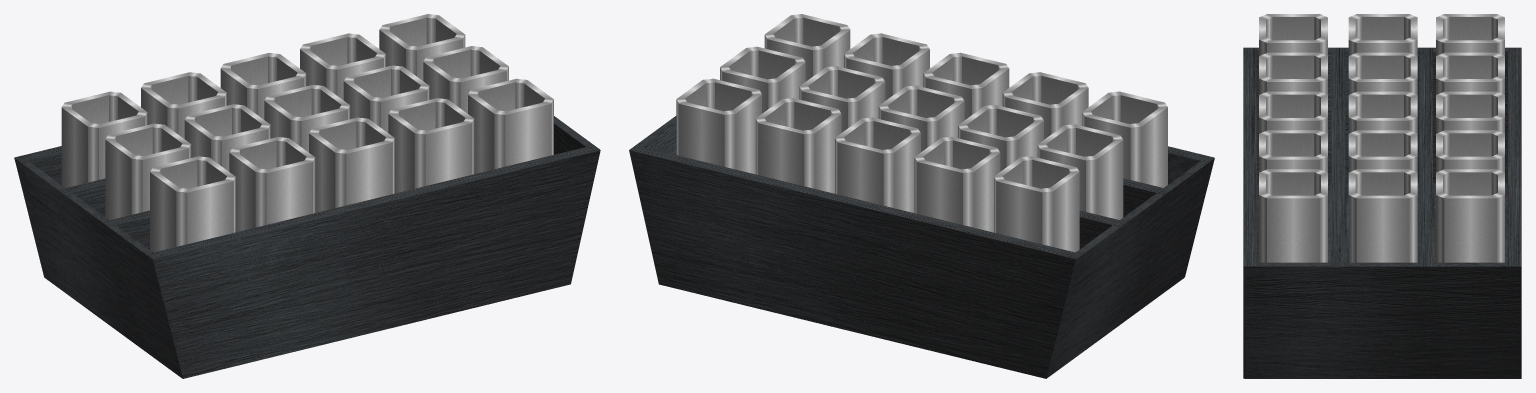
The model's file is CandleHolderRack.fbx.
3 renders of one model, left to right at view 1: azimuth 30°, elevation 25°; view 2: azimuth 150°, elevation 25°; view 3: azimuth 270°, elevation 25°, orthographic.
Parts seen in each view (by area): view 1: back wall, right panel, Cube.013, Cube.004, Cube.010, Cube.001, Cube.007, Cube.012, Cube.014, Cube.005, Cube.011, Cube (+9 smaller); view 2: front wall, right panel, Cube.014, Cube.009, Cube.003, Cube.002, Cube.008, Cube.013, Cube.012, Cube.007, Cube.001, Cube.010 (+9 smaller); view 3: left panel, Cube.006, Cube.008, Cube.007, back wall, mid wall 2, front wall, mid wall, Cube, Cube.005, Cube.011, Cube.003 (+10 smaller).
Part boxes in pixels (bbox=[...]): back wall: bbox=[147, 145, 600, 378]; right panel: bbox=[14, 158, 182, 378]; Cube.013: bbox=[150, 156, 235, 252]; Cube.004: bbox=[388, 98, 474, 193]; Cube.010: bbox=[229, 137, 315, 232]; Cube.001: bbox=[309, 117, 394, 212]; Cube.007: bbox=[468, 78, 553, 173]; Cube.012: bbox=[105, 123, 191, 220]; Cube.014: bbox=[61, 91, 147, 187]; Cube.005: bbox=[343, 65, 429, 132]; Cube.011: bbox=[184, 104, 270, 171]; Cube: bbox=[264, 85, 350, 152]; front wall: bbox=[629, 145, 1082, 378]; right panel: bbox=[1046, 158, 1214, 377]; Cube.014: bbox=[994, 156, 1079, 252]; Cube.009: bbox=[914, 136, 1000, 232]; Cube.003: bbox=[755, 98, 841, 193]; Cube.002: bbox=[835, 117, 920, 212]; Cube.008: bbox=[676, 78, 761, 174]; Cube.013: bbox=[1082, 91, 1167, 187]; Cube.012: bbox=[1037, 124, 1123, 219]; Cube.007: bbox=[764, 14, 850, 81]; Cube.001: bbox=[923, 52, 1009, 119]; Cube.010: bbox=[1002, 72, 1088, 139]; left panel: bbox=[1245, 262, 1520, 378]; Cube.006: bbox=[1348, 169, 1417, 262]; Cube.008: bbox=[1436, 169, 1504, 262]; Cube.007: bbox=[1259, 169, 1327, 262]; back wall: bbox=[1243, 47, 1256, 378]; mid wall 2: bbox=[1331, 47, 1345, 266]; front wall: bbox=[1508, 47, 1521, 378]; mid wall: bbox=[1419, 47, 1432, 266]; Cube: bbox=[1348, 91, 1417, 133]; Cube.005: bbox=[1348, 130, 1417, 172]; Cube.011: bbox=[1348, 52, 1417, 94]; Cube.003: bbox=[1436, 130, 1504, 172].
Bounding box in the file's own units: 113 × 42.77 × 60.61.
Materials: 15 (15 with a texture image).
